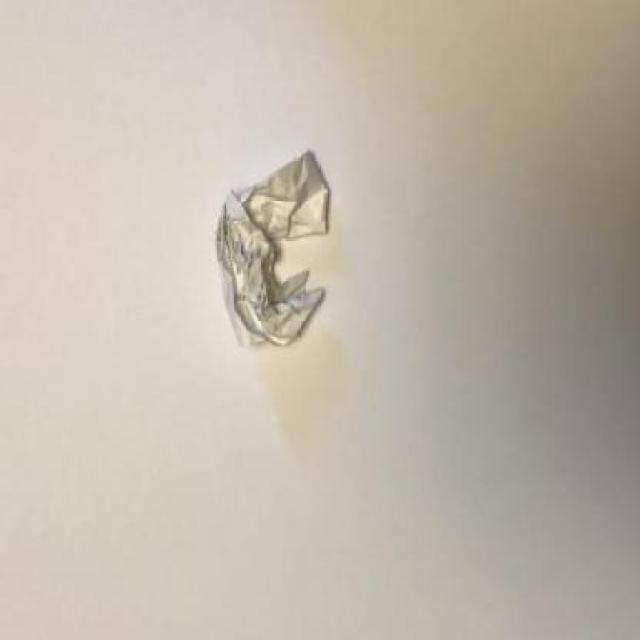trash: (208, 146, 334, 348)
